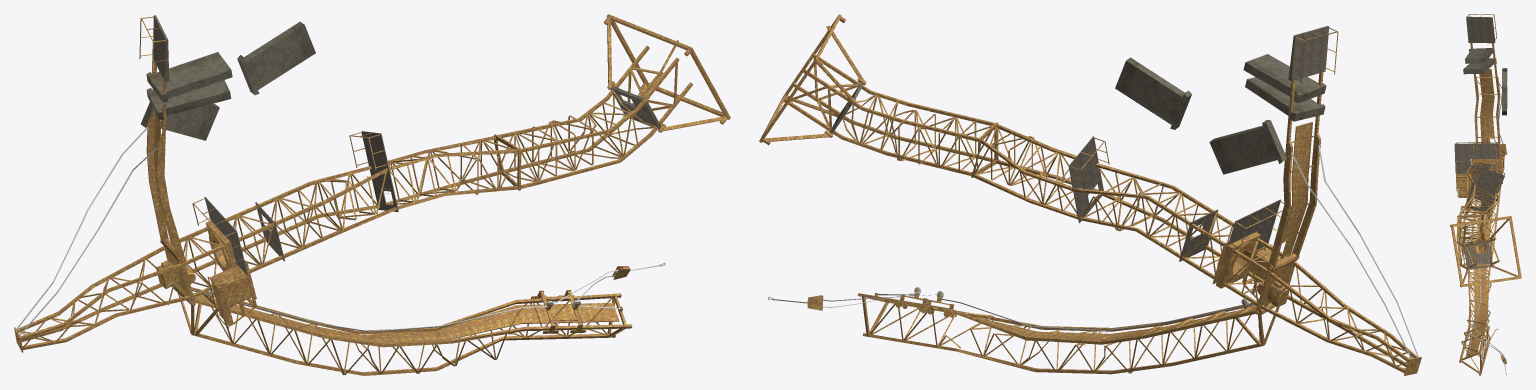
The model's file is kran_destroy.fbx.
The picture shows the model from 3 angles, left to right: view 1: azimuth 30°, elevation 25°; view 2: azimuth 150°, elevation 25°; view 3: azimuth 270°, elevation 25°; orthographic projection. The views are drawn at different scales.
Visible parts, largest first — view 1: MDL-Box011; view 2: MDL-Box011; view 3: MDL-Box011.
Part boxes in pixels (x1,y1,x2,y2): MDL-Box011: (14,14,730,375); MDL-Box011: (759,14,1421,375); MDL-Box011: (1450,14,1521,375).
Bounding box in the file's own units: 56.69 × 33.71 × 9.29.
